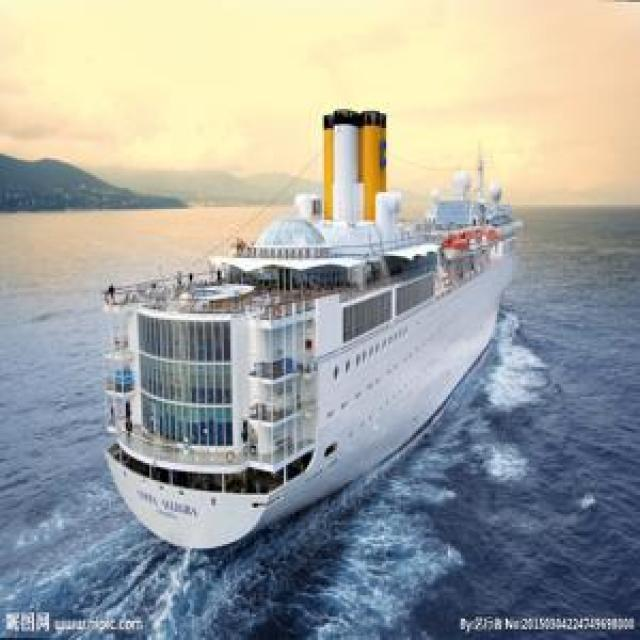passenger ship: (87, 112, 590, 570)
